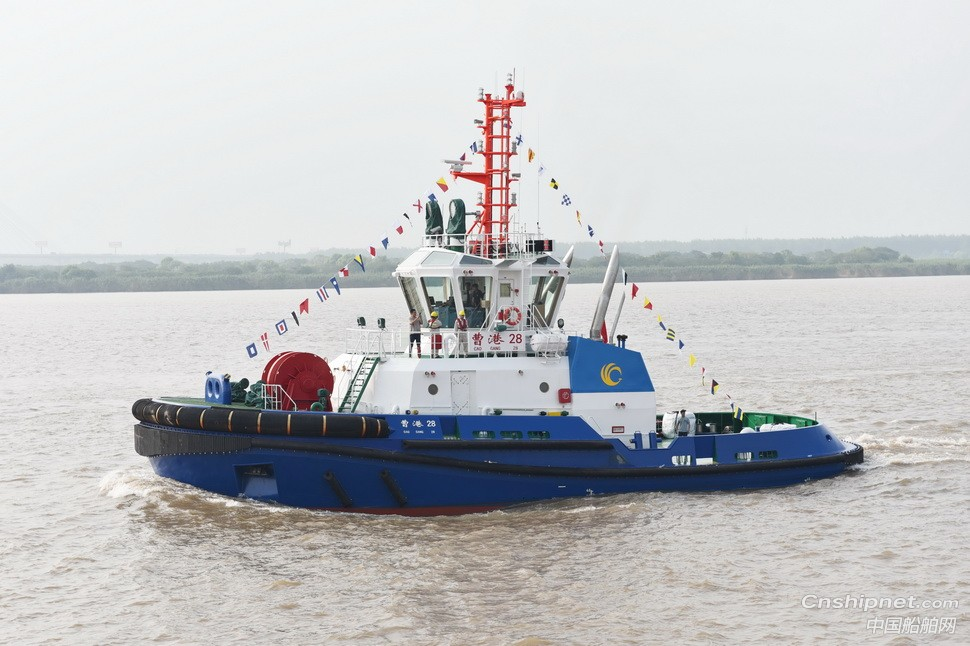otherboat: (136, 90, 886, 515)
